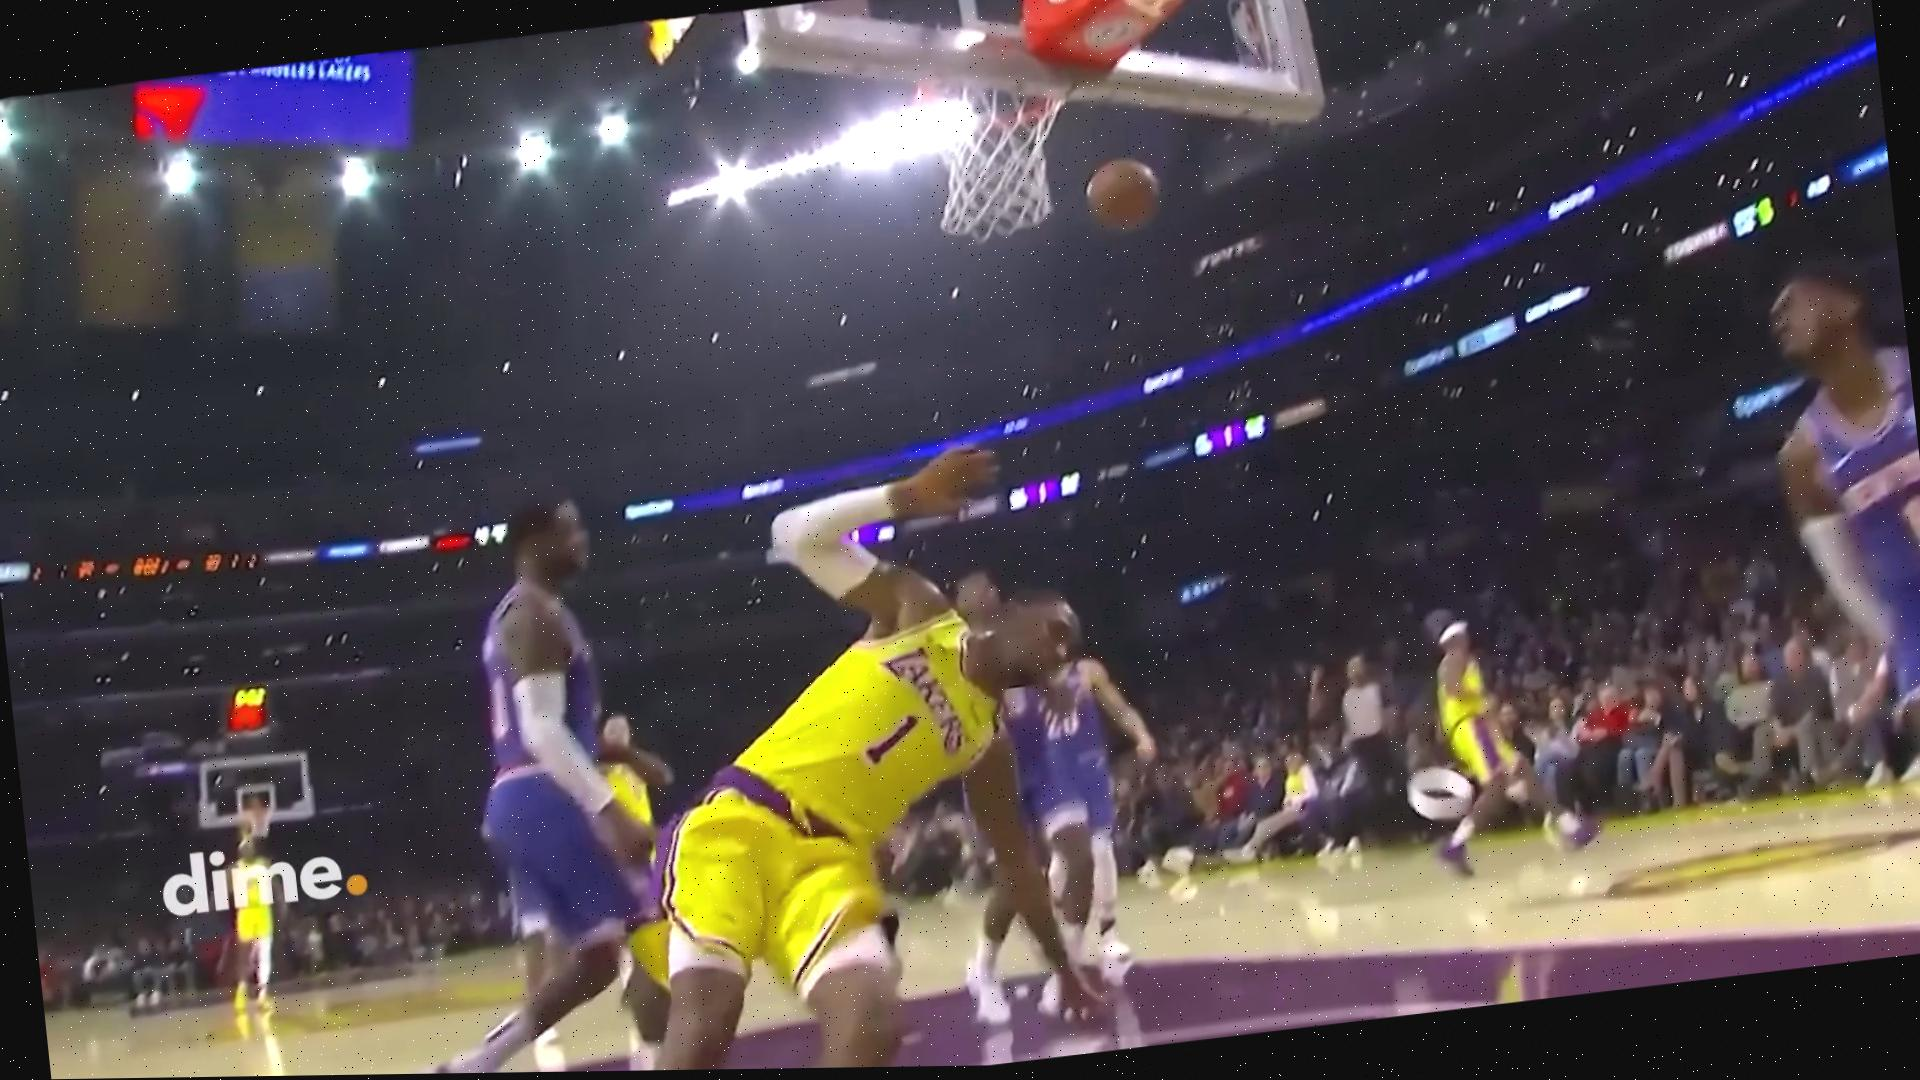no_foul: (603, 426, 1215, 1071)
